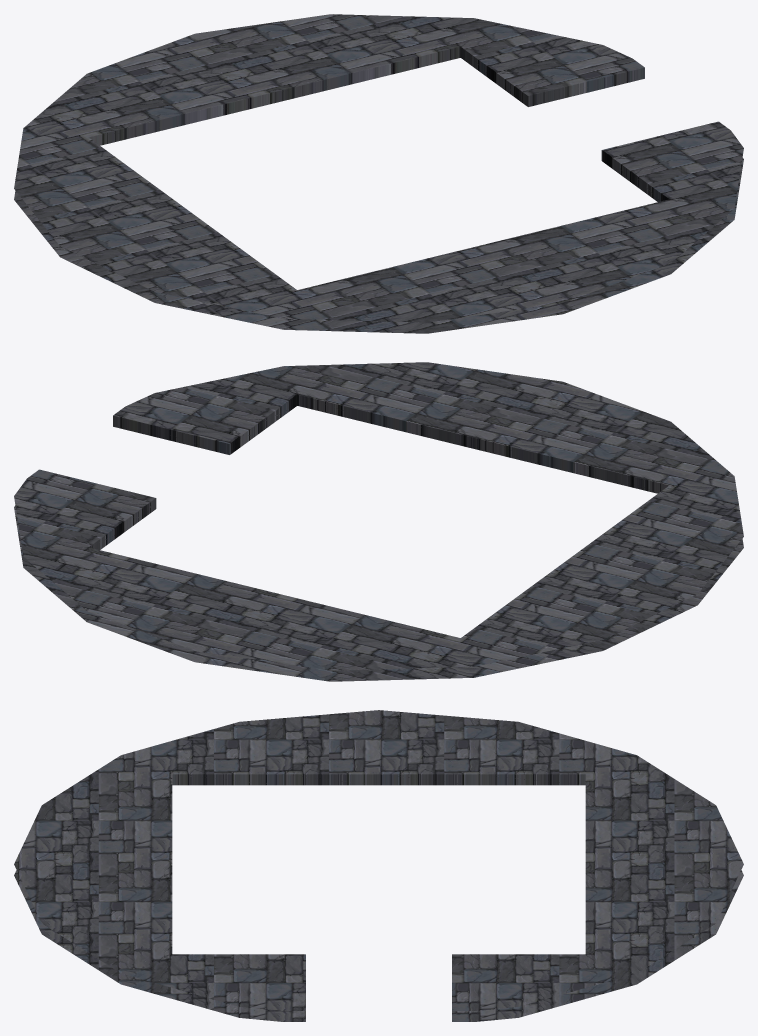
Rendered from DecoracionSalaBoss.obj.
3 renders of one model, top to bottom at view 1: azimuth 30°, elevation 25°; view 2: azimuth 150°, elevation 25°; view 3: azimuth 270°, elevation 25°, orthographic.
Visible parts, largest first — view 1: Circle.000; view 2: Circle.000; view 3: Circle.000.
Boxes of the visible parts, left/top/right/bottom form: Circle.000: left=14, top=14, right=743, bottom=333; Circle.000: left=14, top=362, right=743, bottom=681; Circle.000: left=14, top=710, right=743, bottom=1021.
Size of the model in its own units: 117 by 2 by 120.
Materials: 1 (1 with a texture image).
